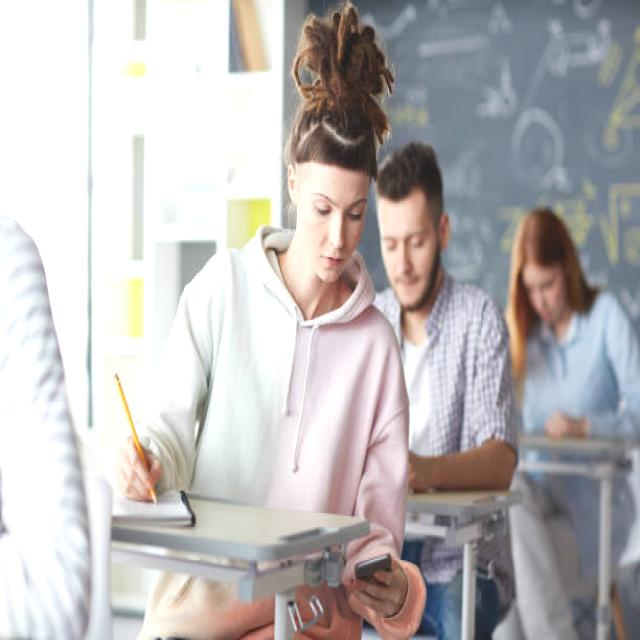non-cheating: (259, 0, 413, 277)
